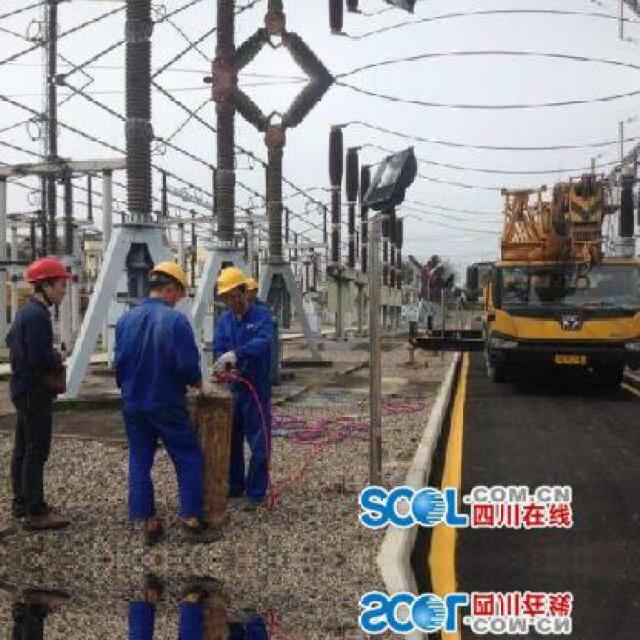helmet: (23, 253, 72, 304), (146, 259, 192, 307), (215, 262, 252, 310)
